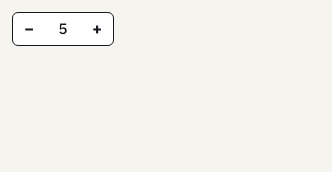
Test case: Stepper › increases and decreases by 1 with the buttons
Click the button named "increase".
click(97, 29)  # box top-left (81, 13), bottom-right (113, 45)
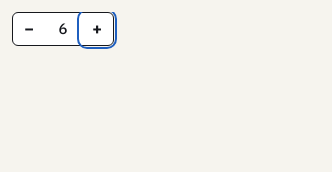
Click the button named "decrease".
click(29, 29)  # box top-left (13, 13), bottom-right (45, 45)
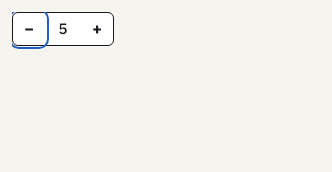
Click the button named "decrease".
click(29, 29)  # box top-left (13, 13), bottom-right (45, 45)
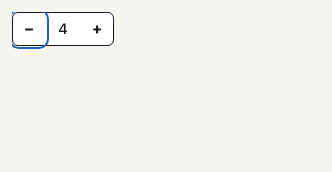
Now the number field named "Stale after" has attribute aria-valuenow="4", box top-left (58, 19), bottom-right (68, 38)
